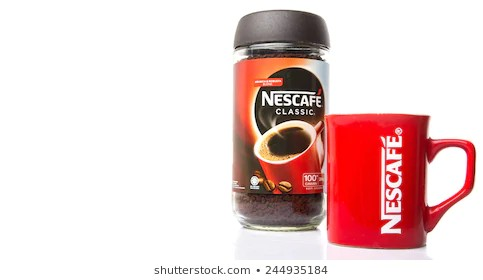nescafe-classic/gold-big: (230, 15, 332, 234)
nescafe-mug: (325, 113, 472, 244)
